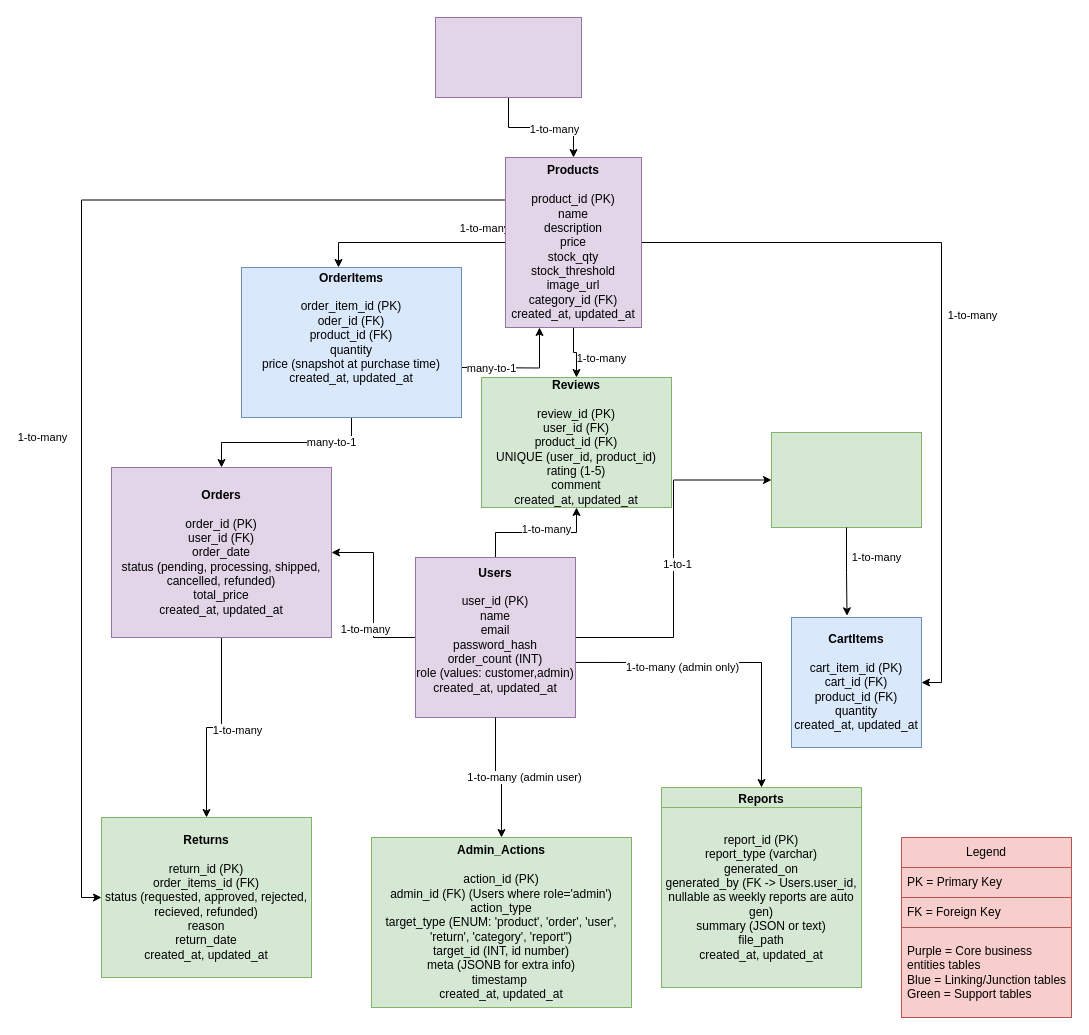
The diagram is 1089 pixels wide and 1035 high, and some of its shapes have lost their labels. Each missing label, with the centre of its shape:
Cart cart_id (PK) user_id (FK) created_at, updated_at: point 846,480
Categories category_id (PK) category_name created_at, updated_at: point 508,57
